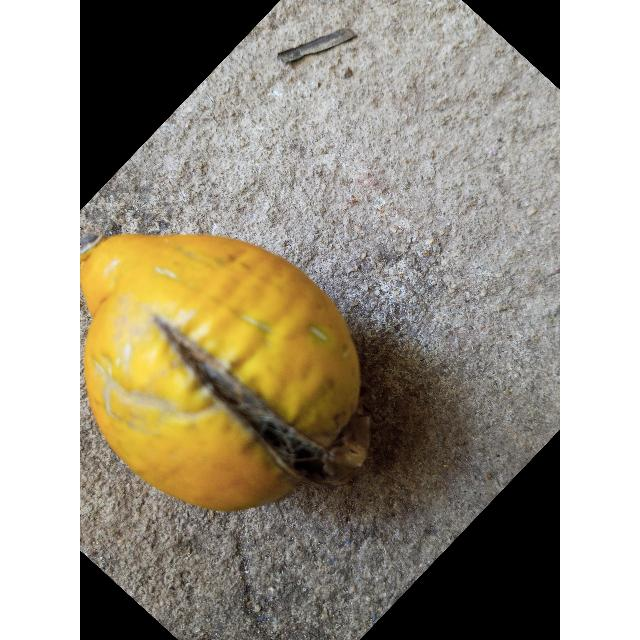damaged: (80, 233, 371, 515)
